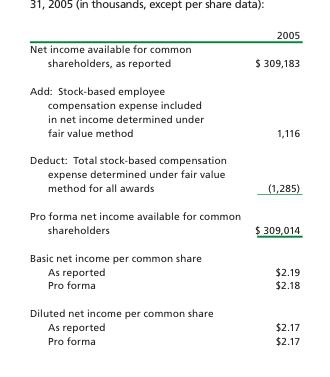table: (28, 29, 299, 346)
table column: (28, 29, 247, 346), (247, 29, 299, 346)
table column header: (28, 29, 299, 41)
table projected row header: (28, 243, 299, 264), (28, 298, 299, 319)
table row: (28, 76, 299, 145), (28, 145, 299, 201), (28, 201, 299, 243), (28, 41, 299, 76), (28, 243, 299, 264), (28, 277, 299, 298), (28, 298, 299, 319), (28, 319, 299, 333), (28, 264, 299, 277), (28, 333, 299, 346), (28, 29, 299, 41)
